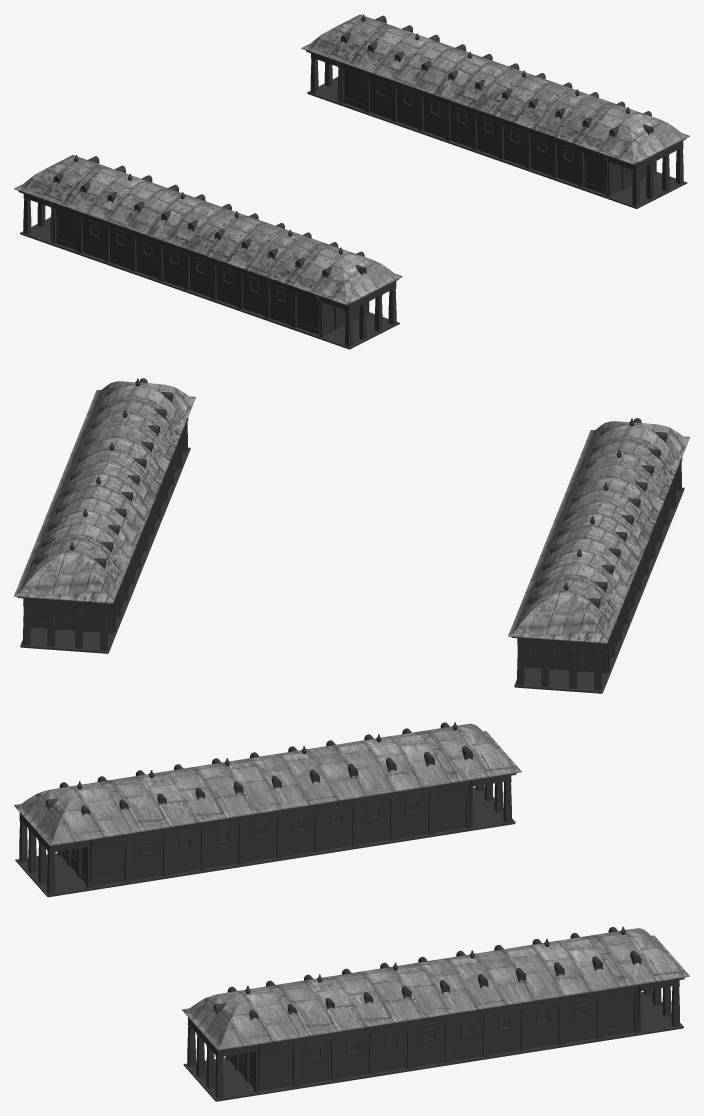
The model's file is JRP_OLD_ADD_Buildings_C.FBX.
The picture shows the model from 3 angles, top to bottom: view 1: azimuth 30°, elevation 25°; view 2: azimuth 150°, elevation 25°; view 3: azimuth 270°, elevation 25°; orthographic projection. The views are drawn at different scales.
Parts seen in each view (by area): view 1: Line157, Line209, side004, side, Box1010, Box694, Box1013, Box702, add_B001, add_B, Box1008, Box691 (+2 smaller); view 2: Line157, Line209, side, side004, Box1008, Box691, add_B001, add_B, Box702, Box1013, Box1034, Box797 (+2 smaller); view 3: Line209, Line157, side004, side, Box1010, Box694, Box1013, Box702, Box1008, Box691, add_B001, add_B (+2 smaller).
Part boxes in pixels (x1,y1,x2,y2): Line157: (301, 14, 689, 164); Line209: (14, 155, 402, 305); side004: (47, 201, 369, 337); side: (334, 60, 656, 196); Box1010: (18, 191, 398, 311); Box694: (306, 50, 686, 170); Box1013: (23, 199, 396, 346); Box702: (310, 58, 683, 206); add_B001: (53, 156, 366, 277); add_B: (341, 15, 653, 137); Box1008: (20, 217, 349, 349); Box691: (307, 77, 636, 208); Line157: (14, 381, 195, 603); Line209: (508, 421, 689, 643); side: (30, 417, 188, 633); side004: (524, 457, 682, 673); Box1008: (514, 561, 654, 693); Box691: (20, 521, 160, 653); add_B001: (528, 418, 667, 608); add_B: (34, 378, 173, 568); Box702: (23, 422, 187, 650); Box1013: (517, 462, 681, 690); Box1034: (530, 645, 594, 672); Box797: (36, 605, 100, 632); Line209: (14, 723, 521, 846); Line157: (182, 928, 689, 1050); side004: (57, 779, 474, 888); side: (226, 984, 642, 1092); Box1010: (19, 773, 516, 852); Box694: (188, 977, 684, 1057); Box1013: (19, 781, 511, 894); Box702: (187, 986, 679, 1098); Box1008: (48, 787, 514, 897); Box691: (216, 992, 682, 1101); add_B001: (45, 722, 472, 815); add_B: (213, 927, 641, 1019).
Bounding box in the file's own units: 5183 × 689 × 4639.
Materials: 2 (1 with a texture image).
